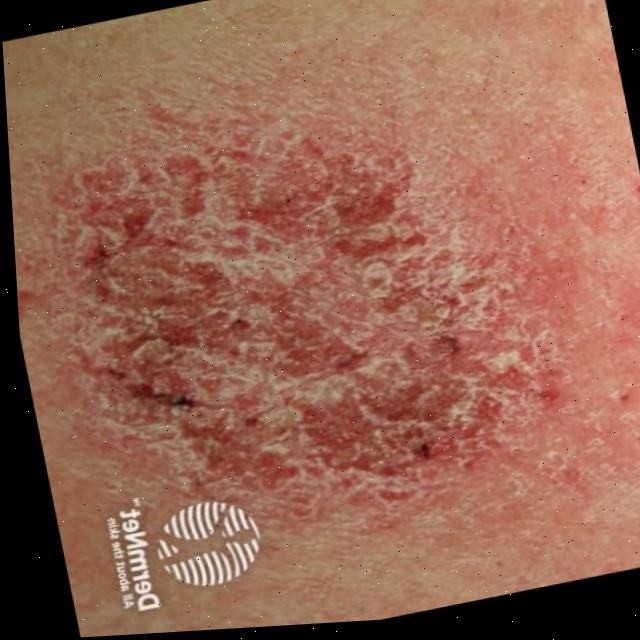Eczema: (77, 101, 563, 554)
